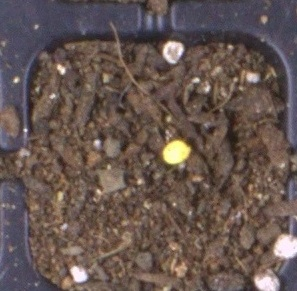chilli seed: (162, 140, 191, 165)
